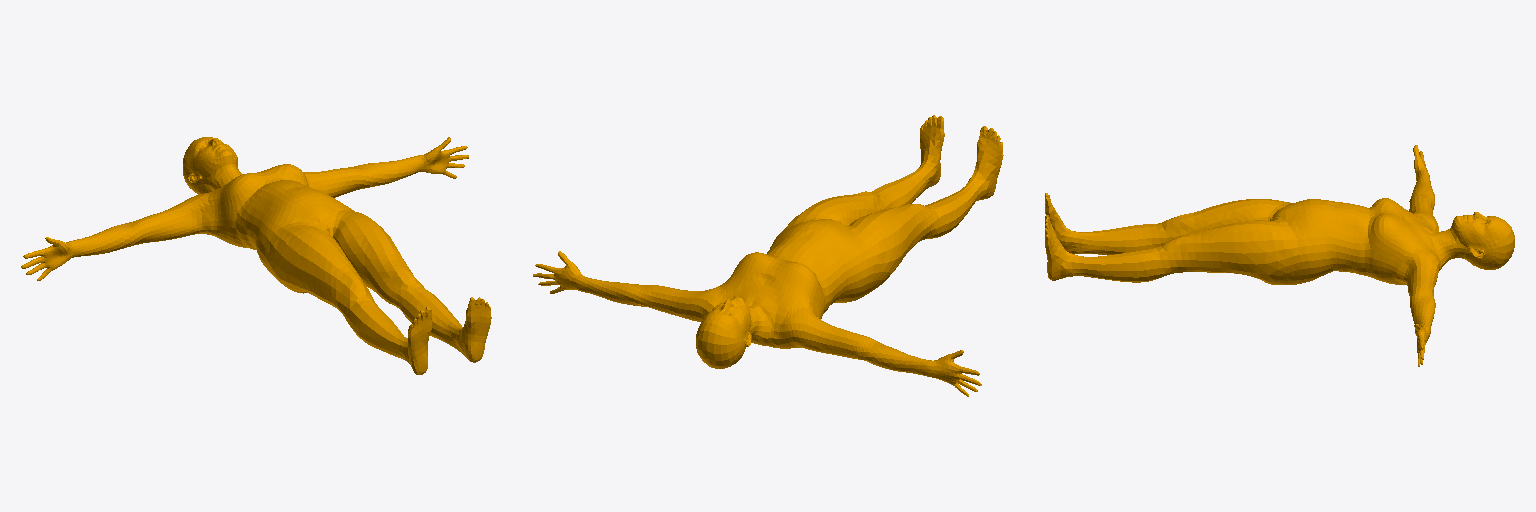
robot.urdf — body_mesh_robot:
<?xml version="1.0" ?>
<robot name="body_mesh_robot">
  <link name="baseLink">
    <visual>
      <geometry>
        <mesh filename="bodymeshes/model.obj" />
      </geometry>
    </visual>
    <collision>
      <geometry>
        <mesh filename="bodymeshes/model.obj" />
      </geometry>
    </collision>
  </link>
</robot>

--- Render facts (derived) ---
3 views of the same robot in one strip: view 1: azimuth 30°, elevation 25°; view 2: azimuth 150°, elevation 25°; view 3: azimuth 270°, elevation 25° (orthographic).
Model body_mesh_robot with 1 links and 0 joints (none), rooted at baseLink, posed all joints at 0.
Links seen in each view (by area): view 1: baseLink; view 2: baseLink; view 3: baseLink.
Link boxes in pixels (bbox=[...]): baseLink: bbox=[21, 137, 491, 374]; baseLink: bbox=[533, 115, 1003, 396]; baseLink: bbox=[1045, 145, 1514, 366].
Bounding box of the posed robot: 1.67 × 1.66 × 0.2868 m (x, y, z).
Meshes: 1 distinct files referenced, 1 mesh visuals loaded (1 OBJ).